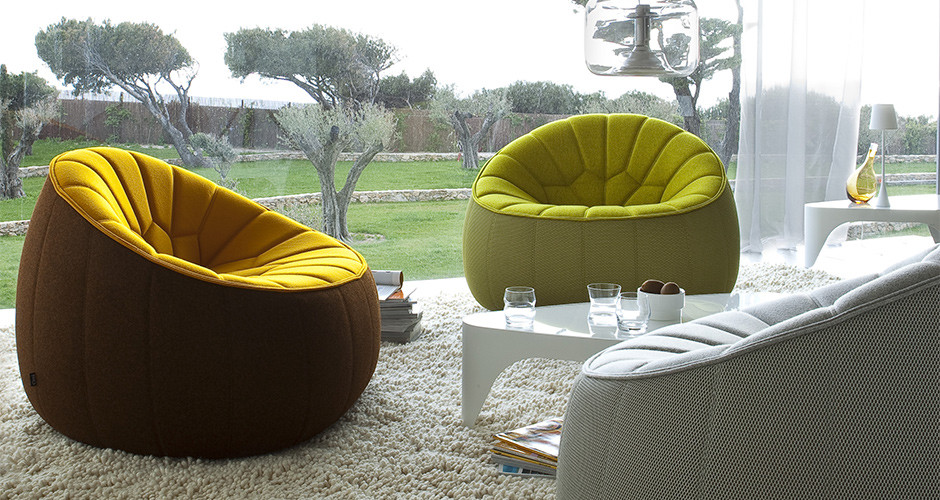chairs: (12, 144, 390, 460), (550, 241, 940, 500), (466, 111, 743, 314)
